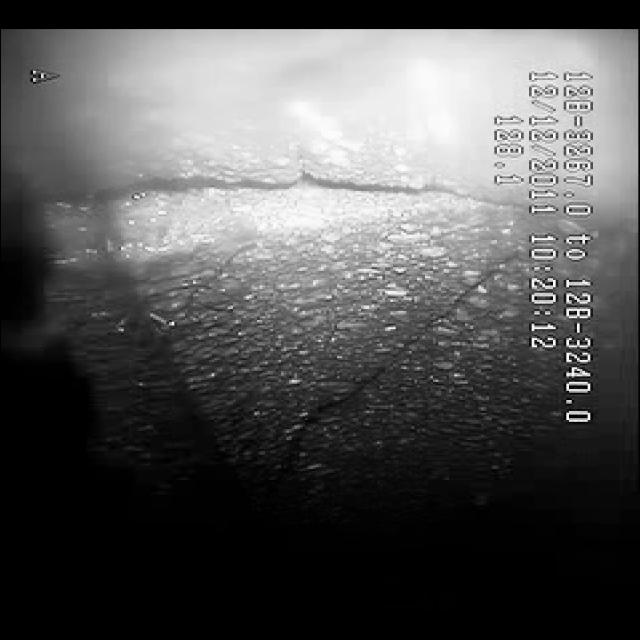Crack: (284, 268, 496, 466)
